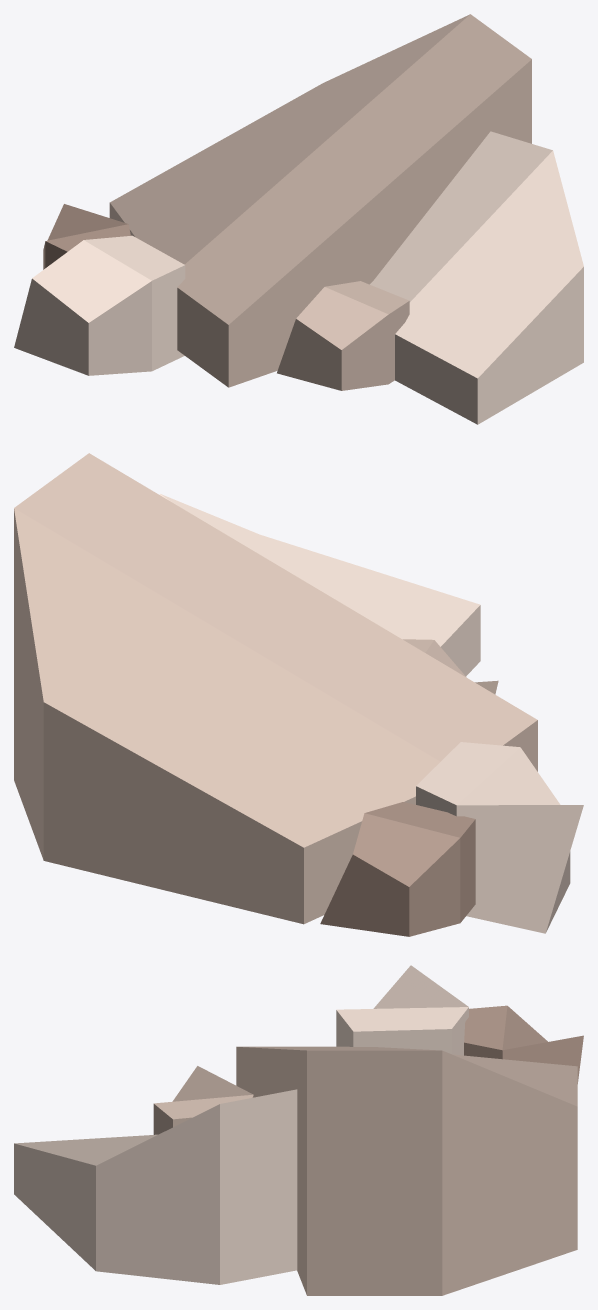
File: rock-type5-01-sand.glb
The picture shows the model from 3 angles, top to bottom: view 1: azimuth 30°, elevation 25°; view 2: azimuth 150°, elevation 25°; view 3: azimuth 270°, elevation 25°; orthographic projection. The views are drawn at different scales.
Parts seen in each view (by area): view 1: Rock_Type5_01_mesh; view 2: Rock_Type5_01_mesh; view 3: Rock_Type5_01_mesh.
Part boxes in pixels (x1,y1,x2,y2): Rock_Type5_01_mesh: [14, 14, 583, 424]; Rock_Type5_01_mesh: [14, 453, 583, 936]; Rock_Type5_01_mesh: [14, 965, 583, 1295].
Bounding box in the file's own units: 1.94 × 0.9523 × 1.92.
Materials: 1 (1 with a texture image).
